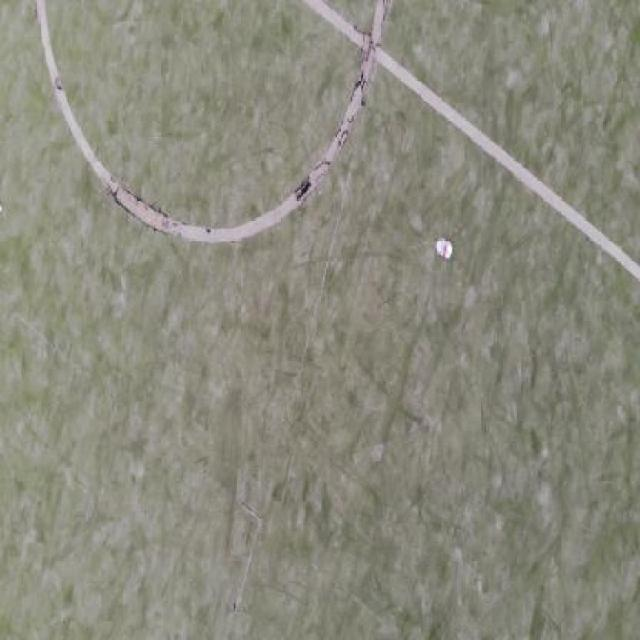Garbage: (436, 237, 453, 258)
